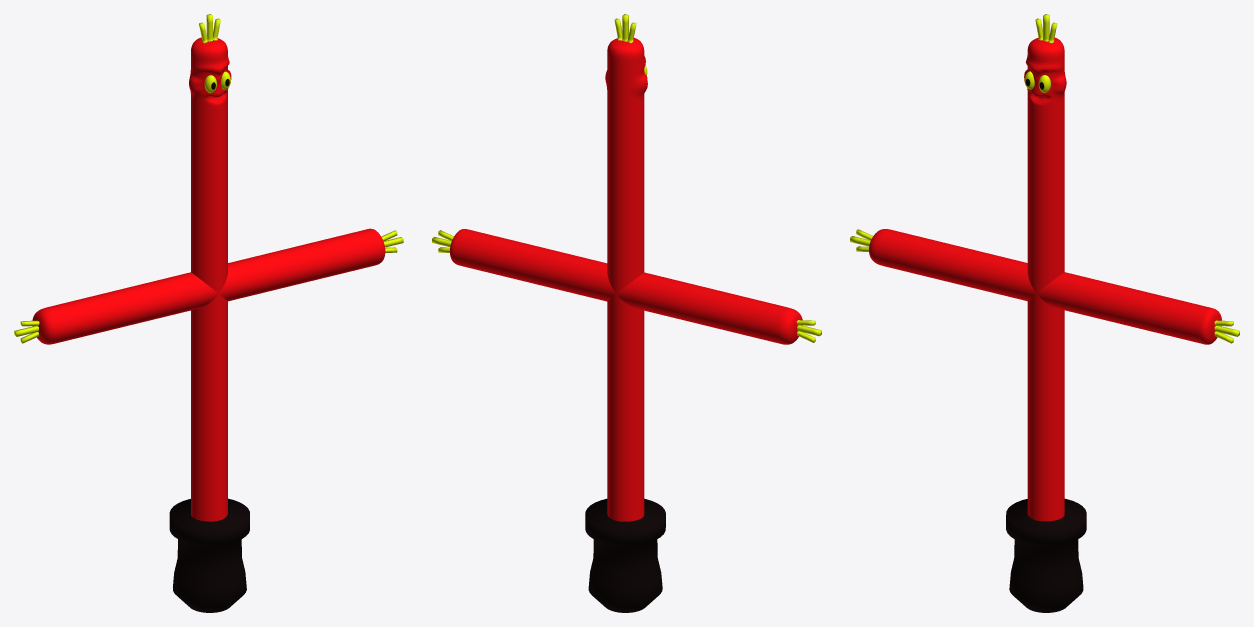
Rendered from WackGuy_Concept1.fbx.
The picture shows the model from 3 angles, left to right: view 1: azimuth 30°, elevation 25°; view 2: azimuth 150°, elevation 25°; view 3: azimuth 330°, elevation 25°; orthographic projection.
Visible parts, largest first — view 1: BezierCurve, Cylinder; view 2: BezierCurve, Cylinder; view 3: BezierCurve, Cylinder.
Part boxes in pixels (x1,y1,x2,y2): BezierCurve: [32, 37, 385, 521]; Cylinder: [169, 498, 249, 612]; BezierCurve: [450, 37, 802, 521]; Cylinder: [585, 498, 665, 612]; BezierCurve: [869, 37, 1221, 521]; Cylinder: [1006, 498, 1086, 612].
Bounding box in the file's own units: 441 × 641 × 79.7.
